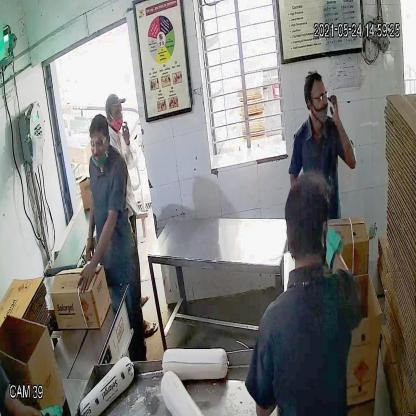goggles: (303, 88, 330, 107), (88, 134, 109, 153)
